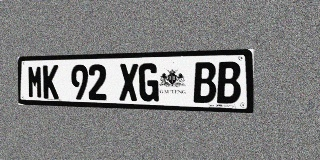2: (88, 64, 106, 100)
9: (71, 64, 88, 100)
B: (217, 61, 241, 104), (193, 62, 216, 103)
G: (139, 63, 159, 102)
K: (43, 65, 59, 99)
M: (28, 65, 43, 99)
X: (119, 63, 138, 101)
